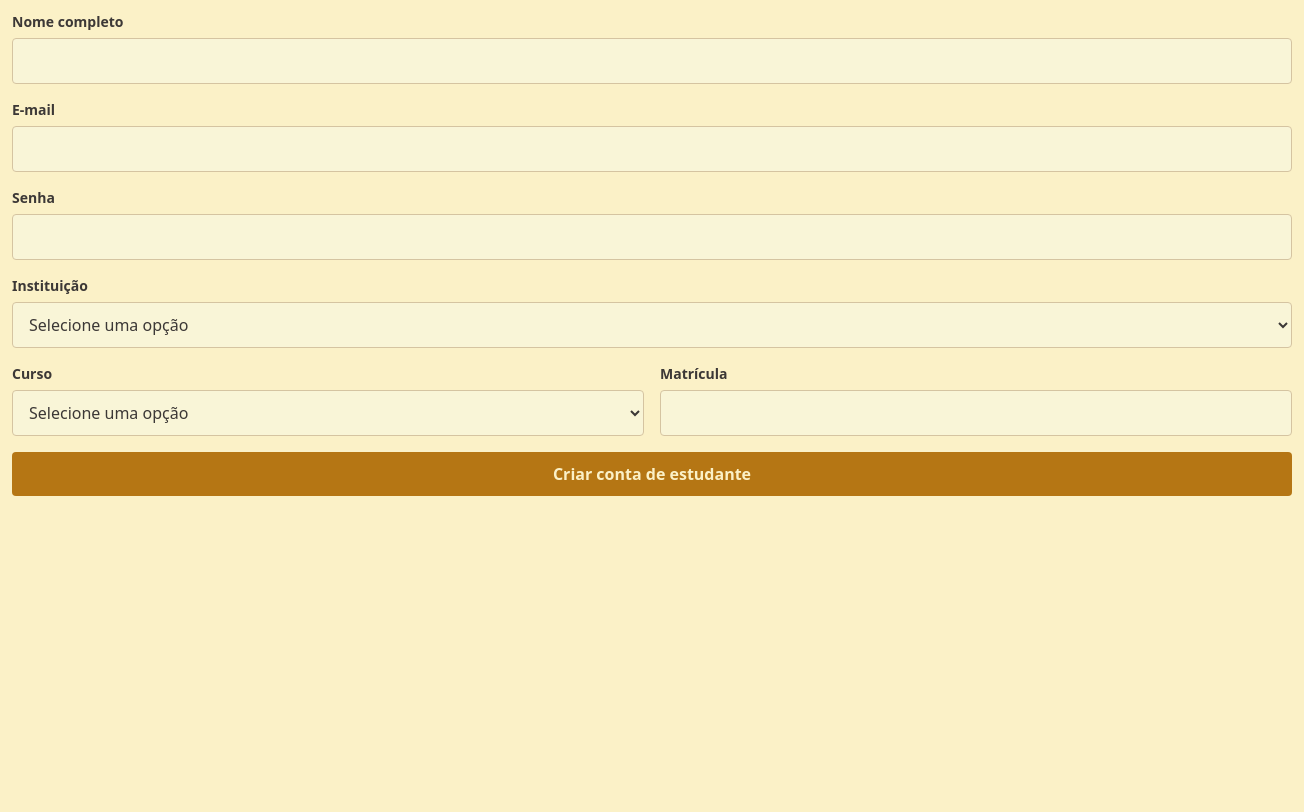
Test case: CadastroEstudante › valida matrícula curta
In the field labelled "Nome completo": (652,61) [12,38,1292,84], type "Ana Estudante"
In the field labelled "E-mail": (652,149) [12,126,1292,172], type "ana@ufmg.br"
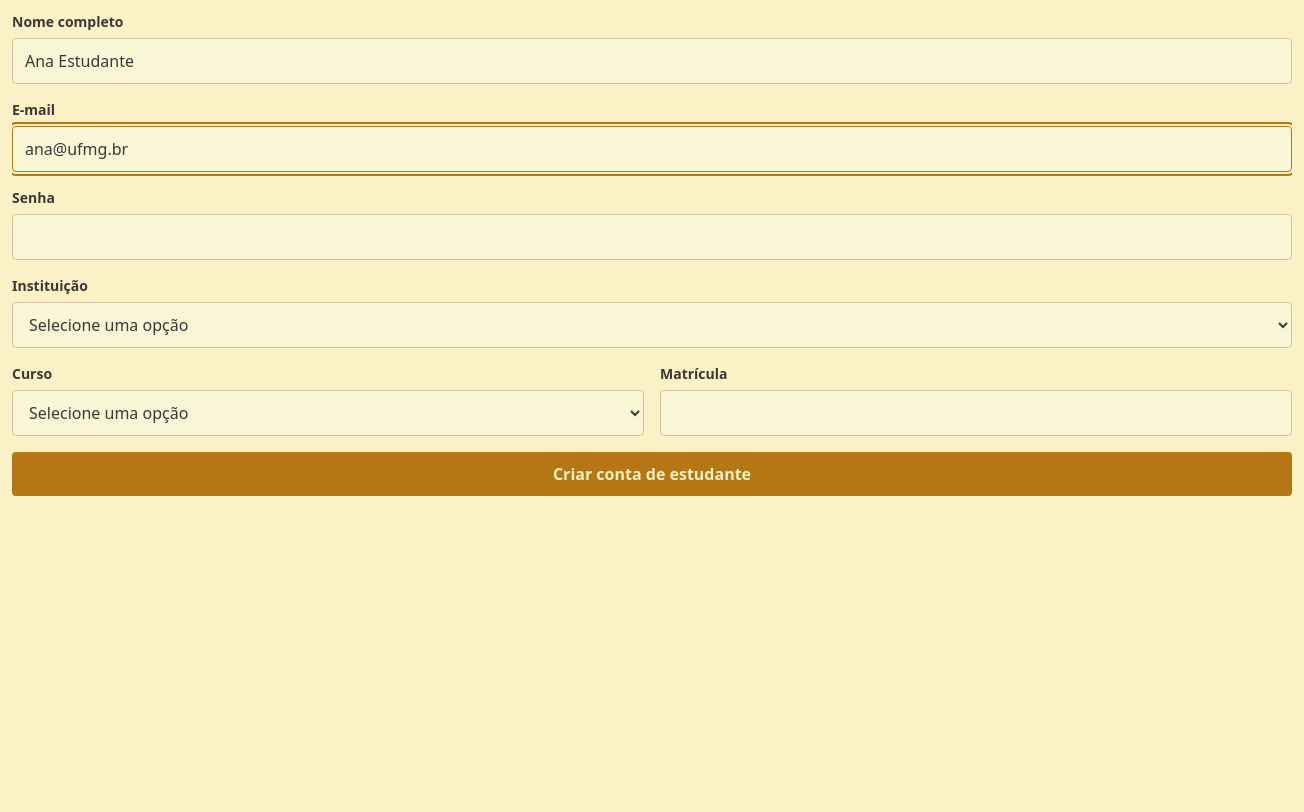
In the password field labelled "Senha": (652,237) [12,214,1292,260], type "segredo"
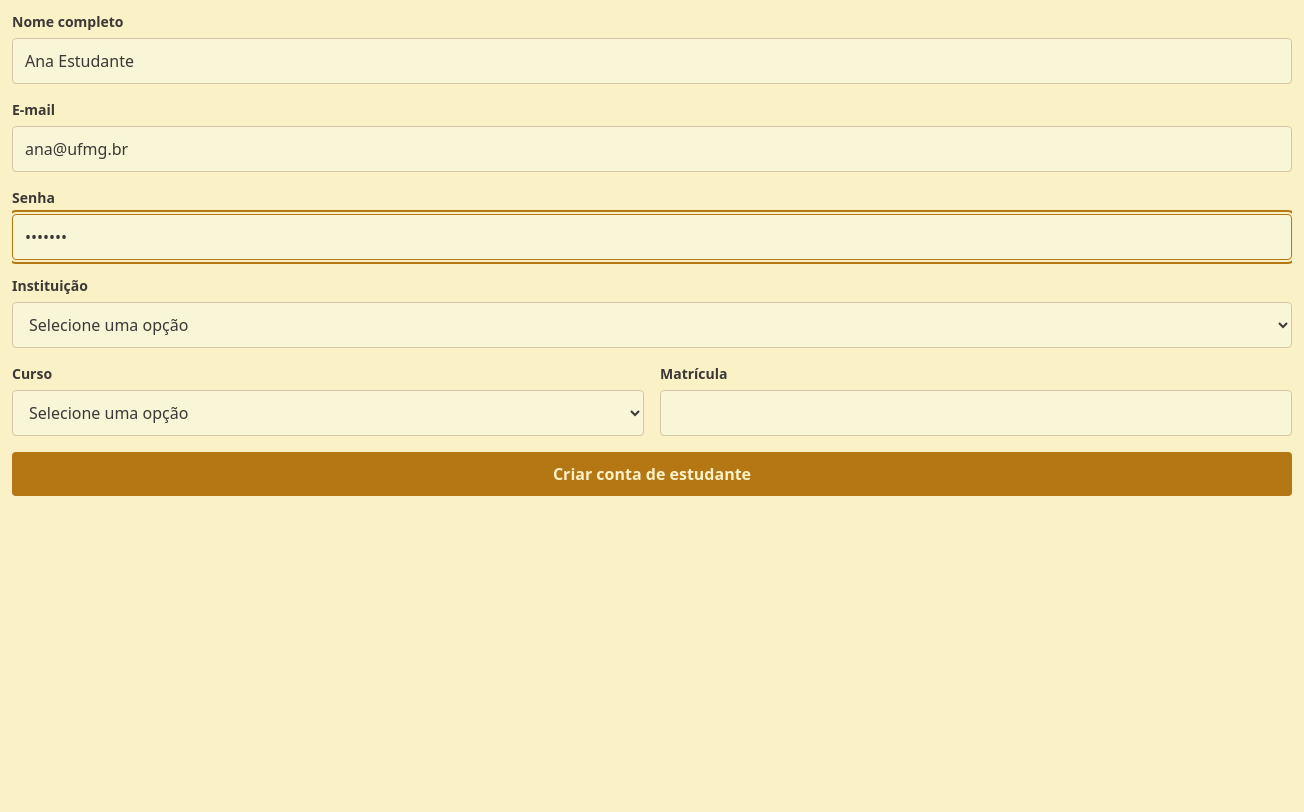
Select "Universidade Federal de Minas Gerais" in the dropdown labelled "Instituição": (652,325) [12,302,1292,348]
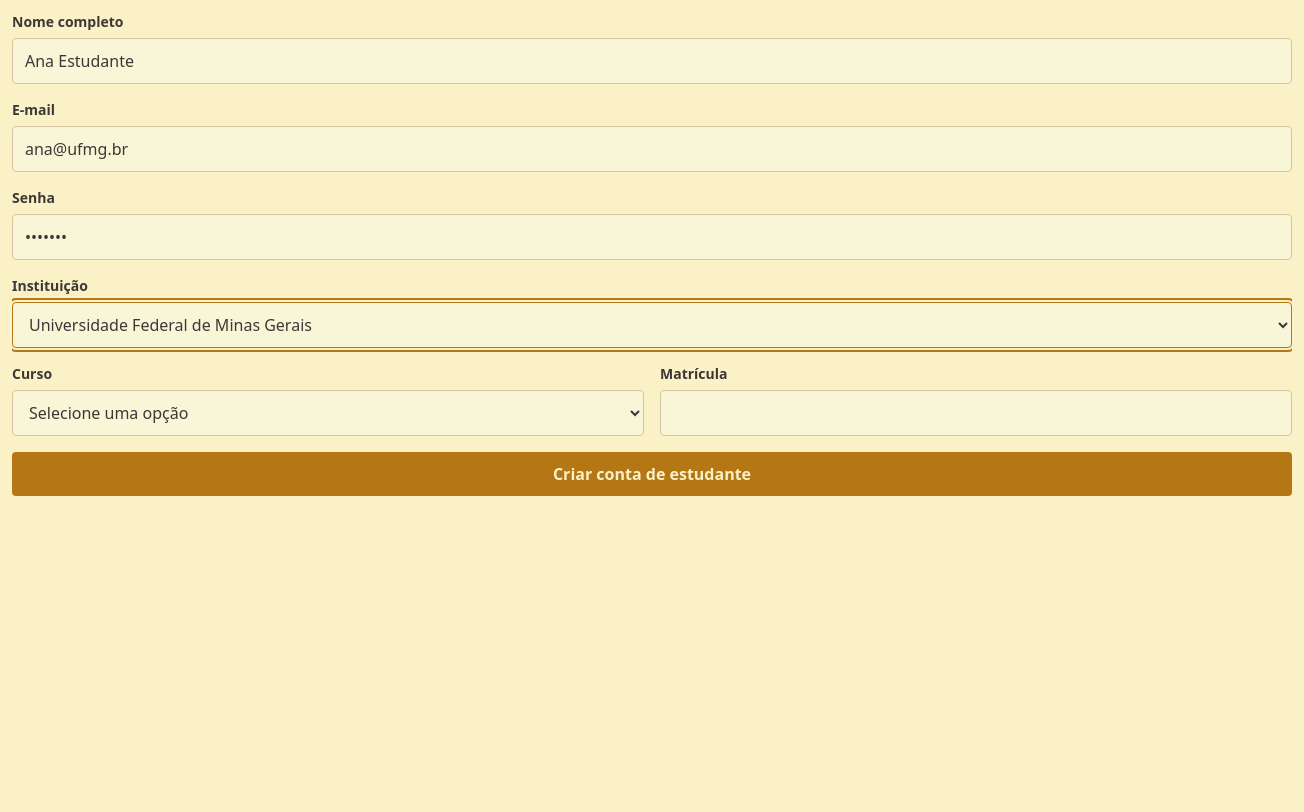
Select "Ciência da Computação (Bacharelado)" in the dropdown labelled "Curso": (328,413) [12,390,644,436]
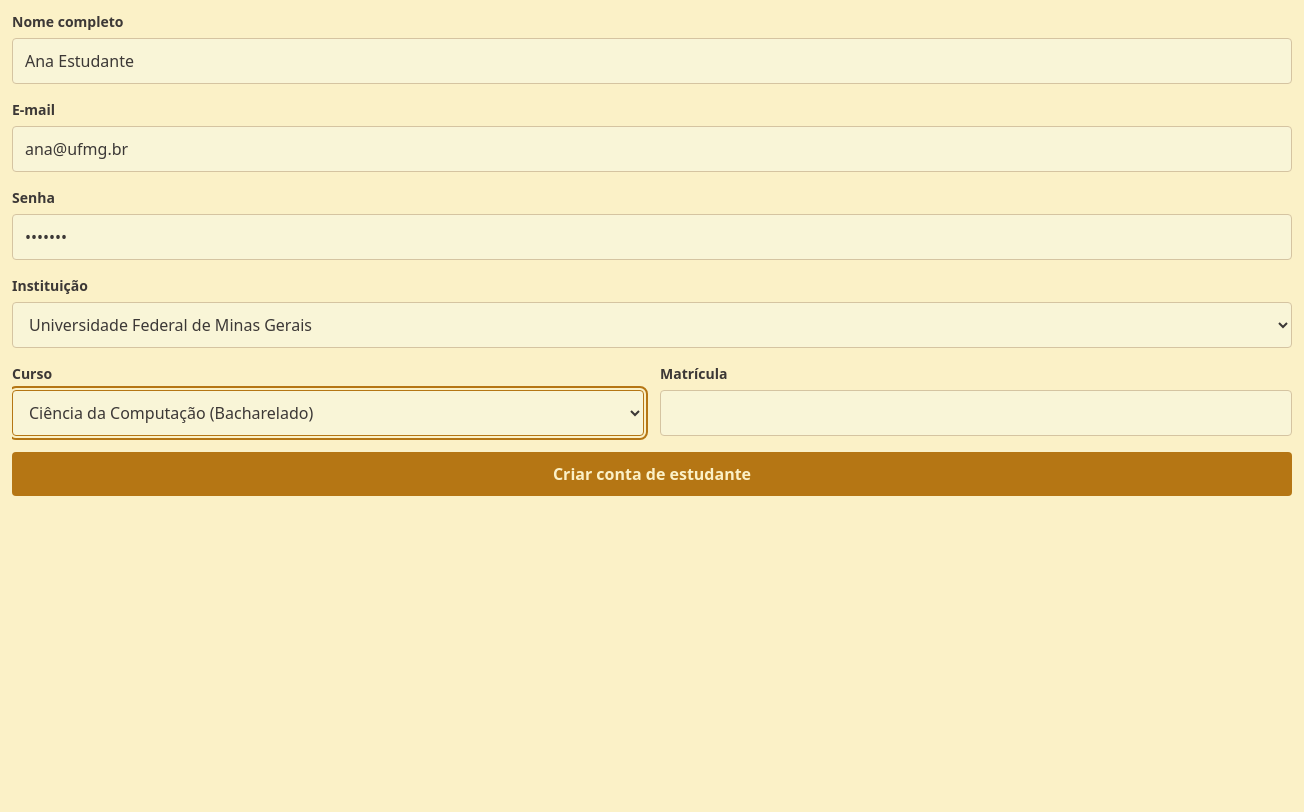
In the field labelled "Matrícula": (976,413) [660,390,1292,436], type "123"
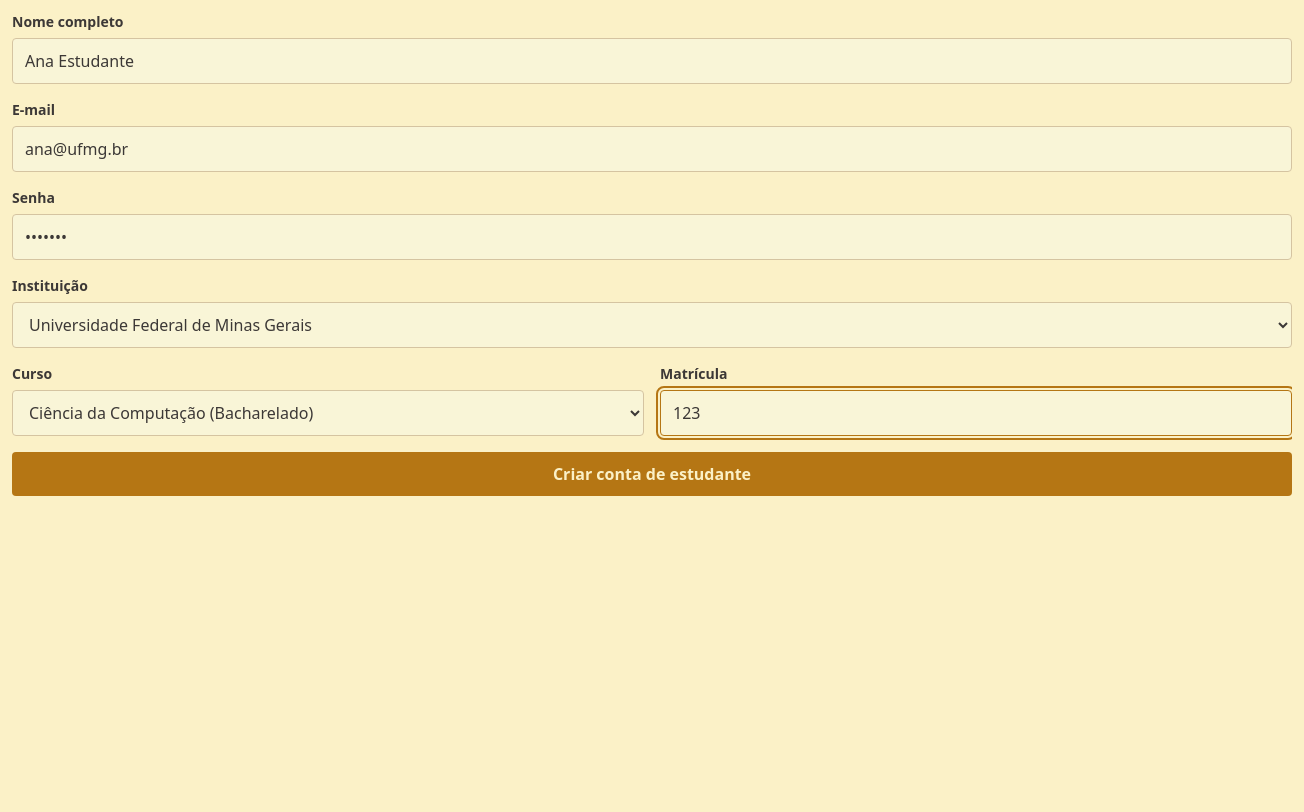
Submit the form "Criar conta", box [12,12,1292,496]
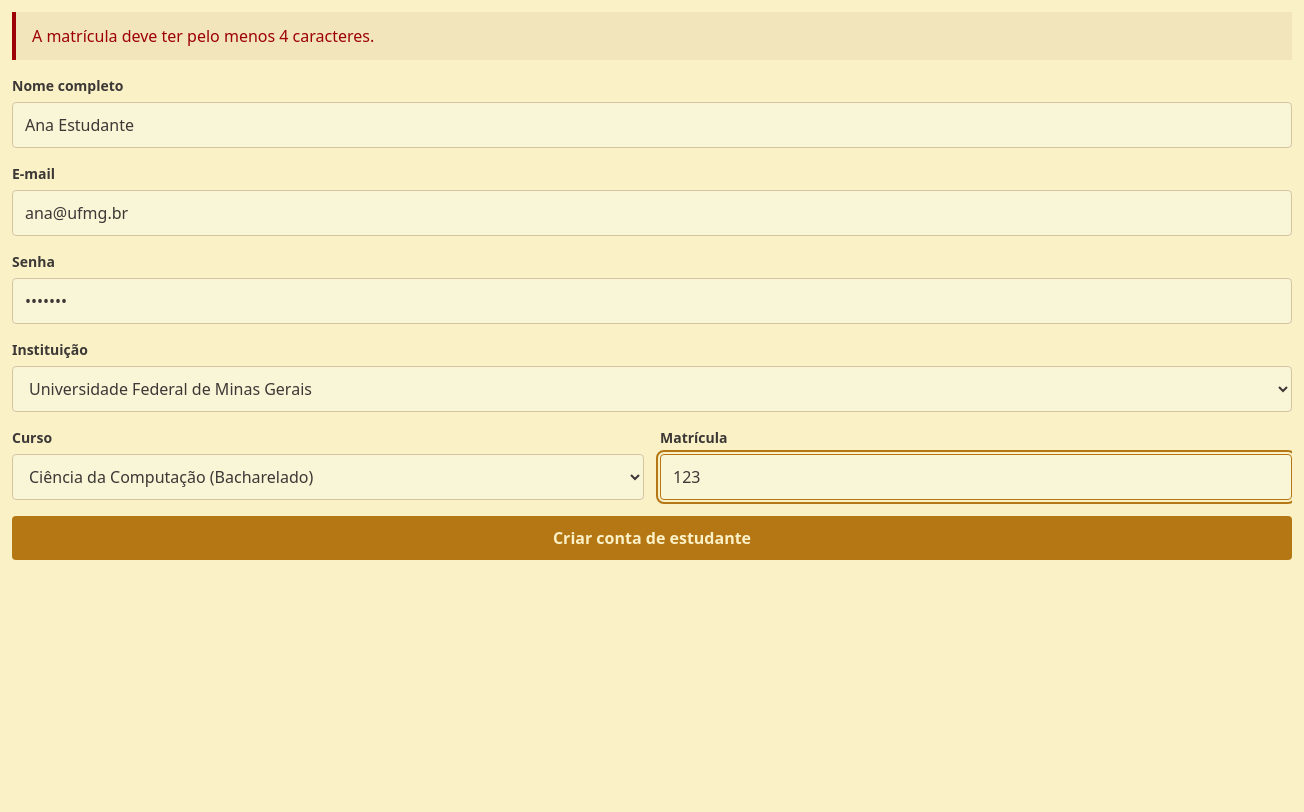
Now the message shows "pelo menos 4", box [32,25,374,47]
